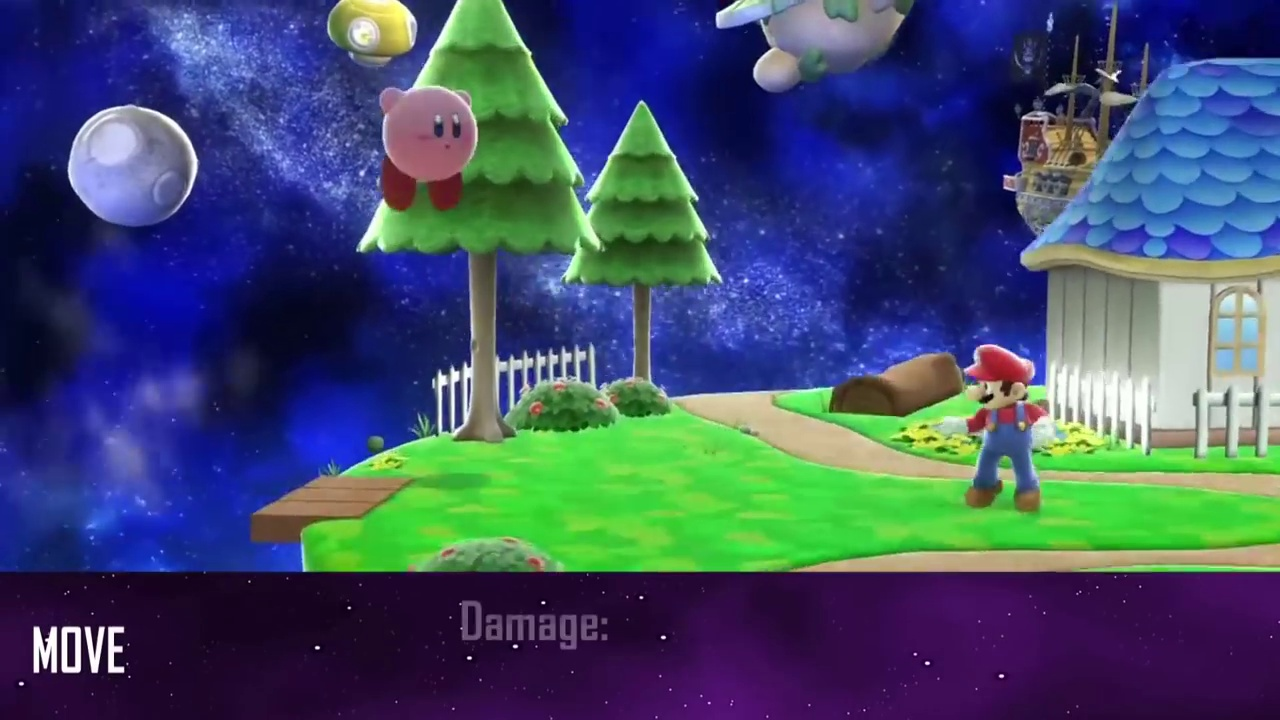Mario: (934, 342, 1054, 514)
